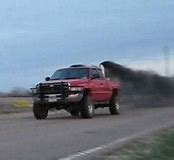smoke: (99, 60, 174, 100)
